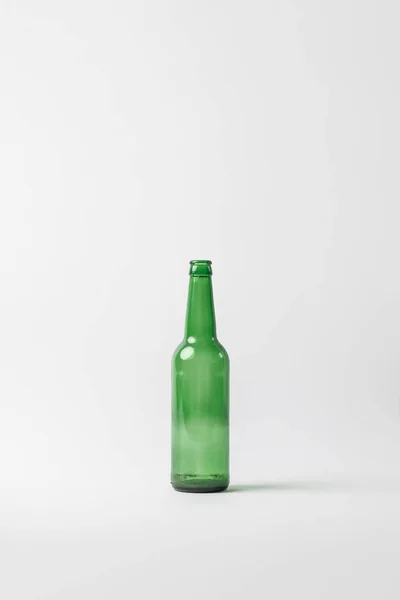glass_bottle: (144, 238, 255, 512)
